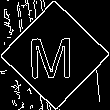M_N: (32, 29, 78, 81)
